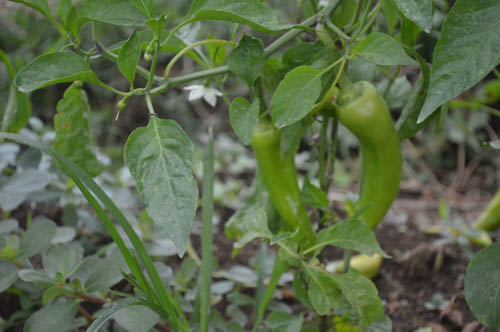ChiliPepper: (344, 84, 404, 234), (256, 131, 316, 238)
